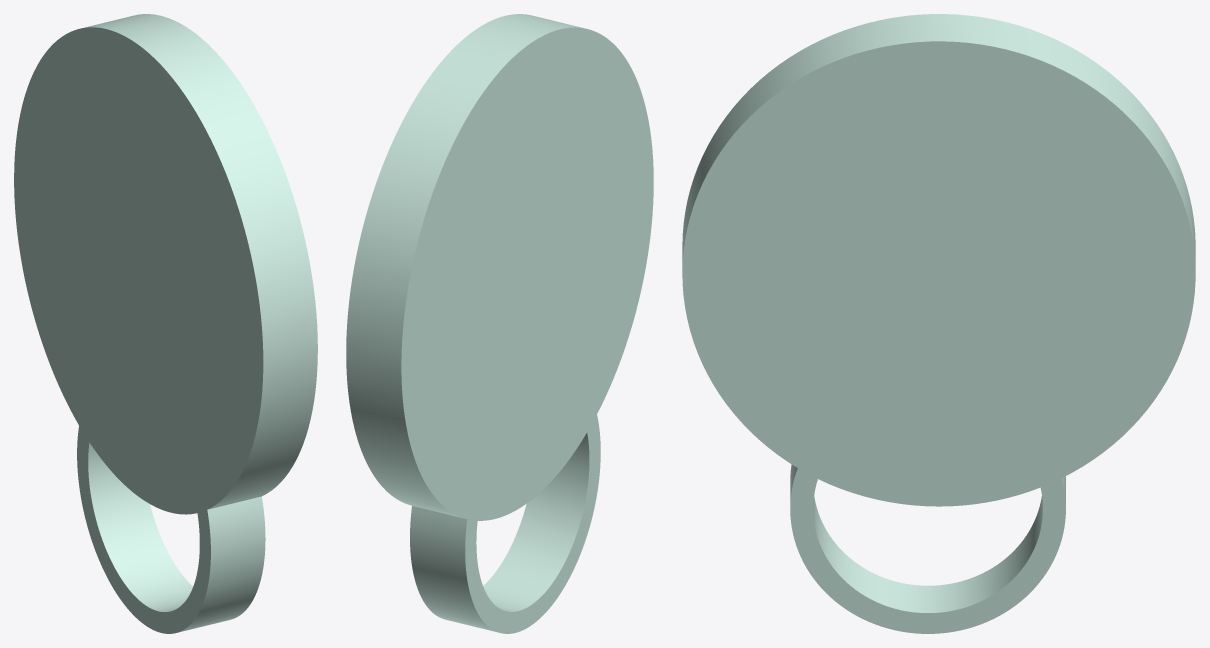
3 views of the same model, side by side, from view 1: azimuth 30°, elevation 25°; view 2: azimuth 150°, elevation 25°; view 3: azimuth 270°, elevation 25° (orthographic). The views are drawn at different scales.
Visible parts, largest first — view 1: Renderer Node; view 2: Renderer Node; view 3: Renderer Node.
Part boxes in pixels (x1,y1,x2,y2): Renderer Node: [14, 14, 317, 633]; Renderer Node: [346, 14, 653, 633]; Renderer Node: [682, 14, 1195, 633].
Size of the model in its own units: 0.1875 by 1.89 by 1.48.
